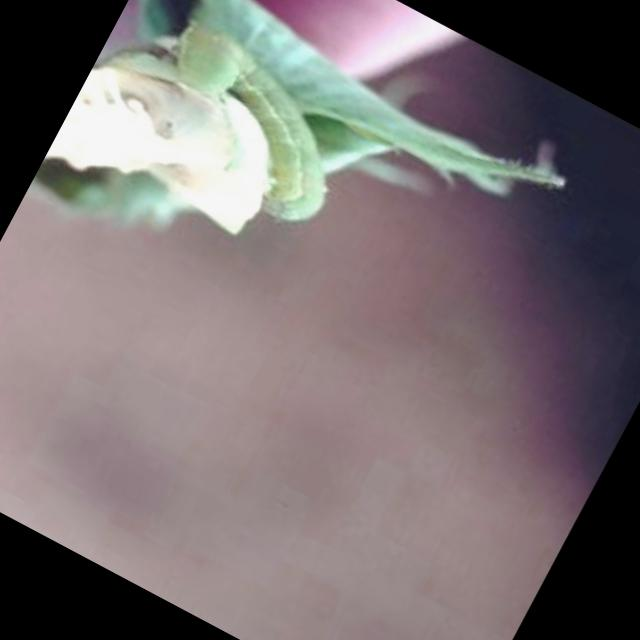Beet armyworm: (94, 0, 434, 282)
